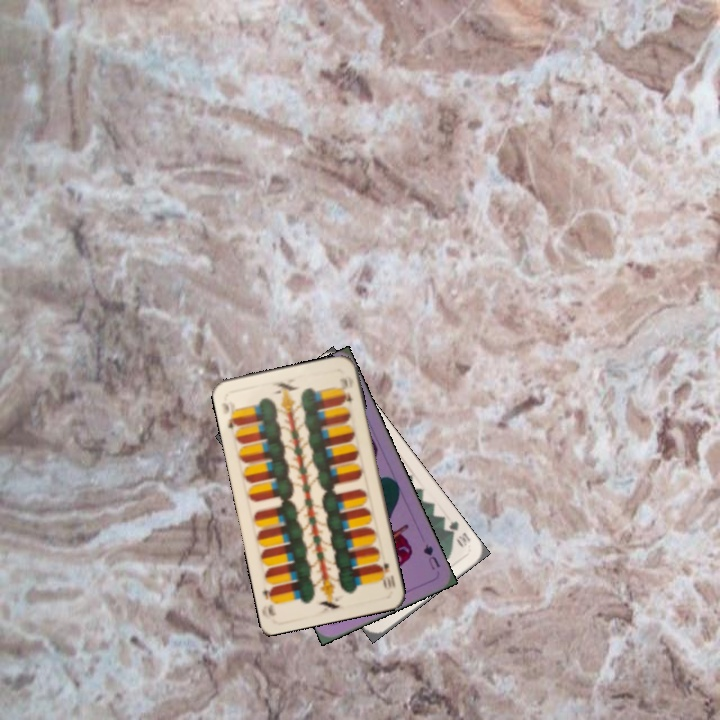E10: (217, 399, 242, 433), (374, 559, 398, 592)
G10: (439, 517, 473, 549)
GU: (419, 540, 443, 573)
